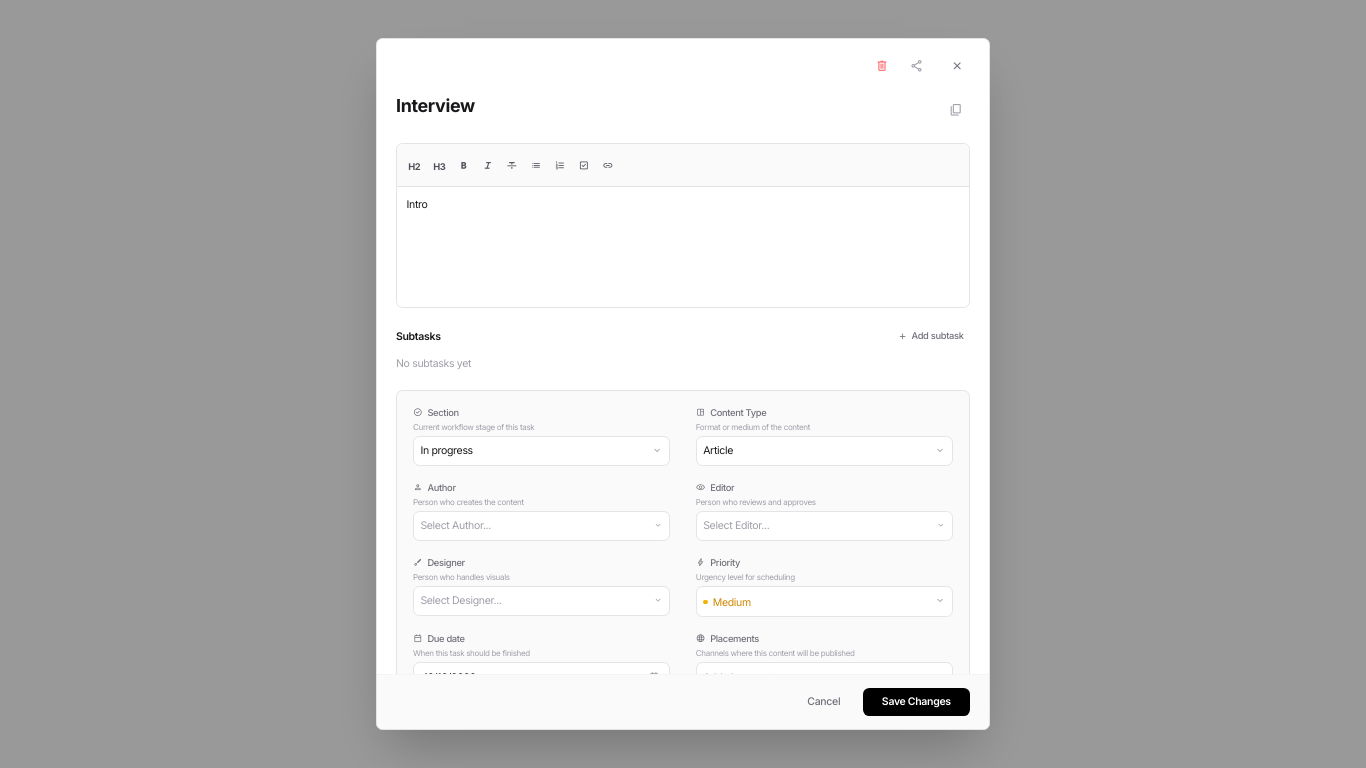
Test case: TaskModal with someone else editing the same task › keeps the task open with both versions when the description conflicts
The width and height of the screenshot is (1366, 768).
Click the button "Save Changes": (916, 702) [863,688,970,716]
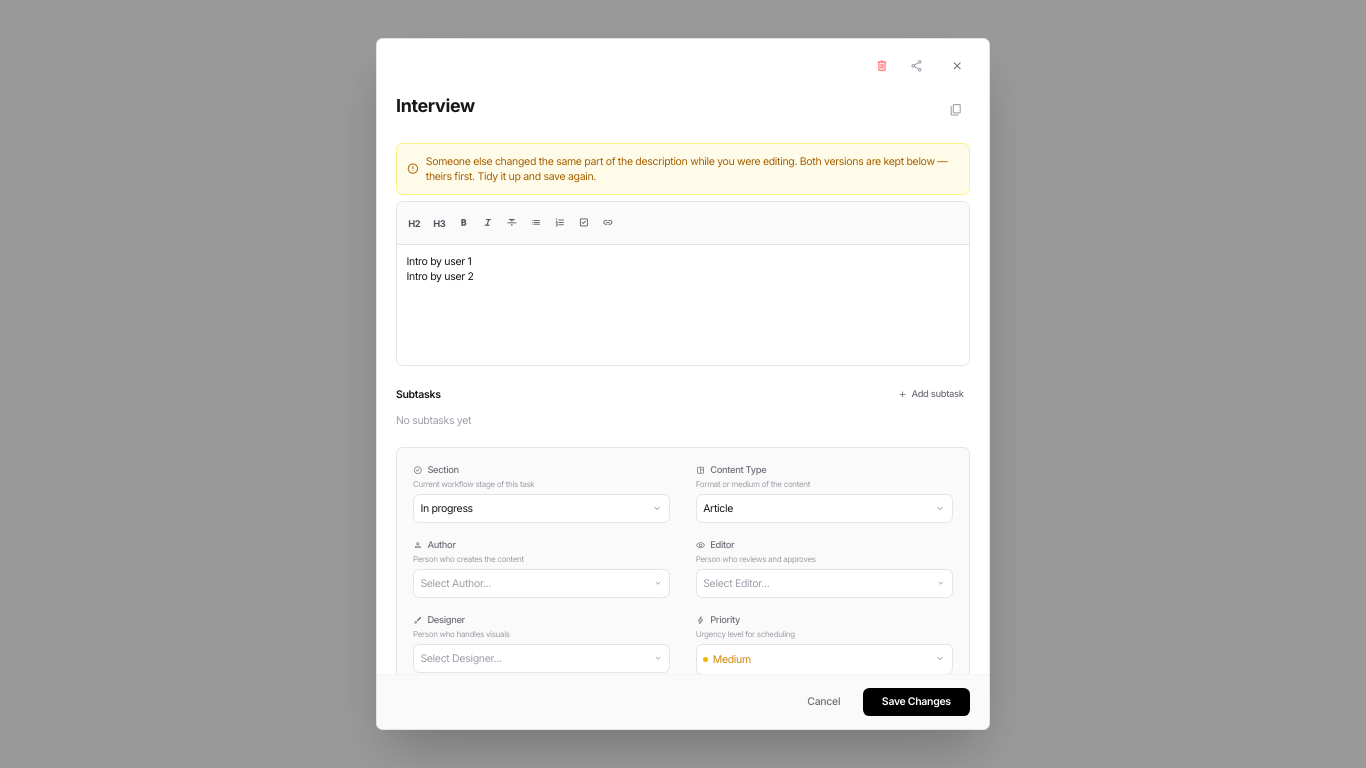
Check: the text "Someone else changed the same part of the description" is shown, box [426,155,948,183]
